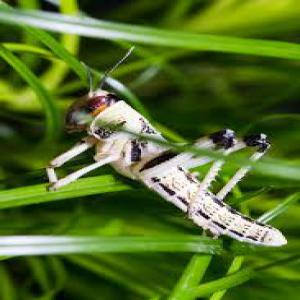locust: (52, 50, 281, 249)
